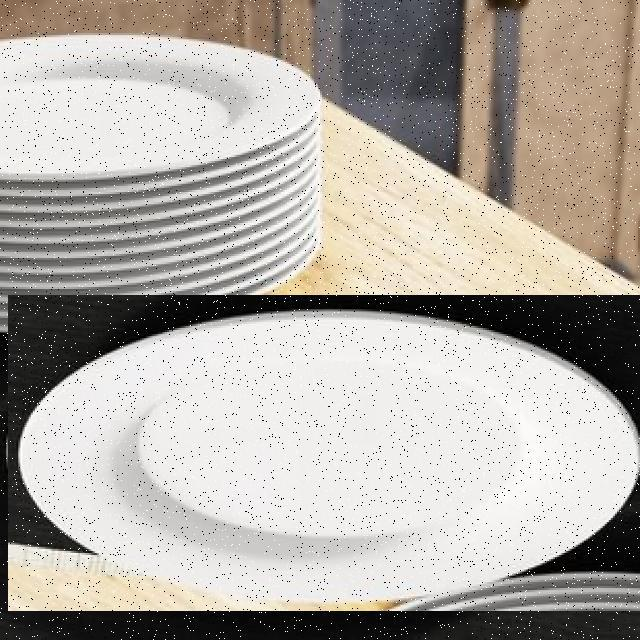plate: (8, 295, 640, 611)
